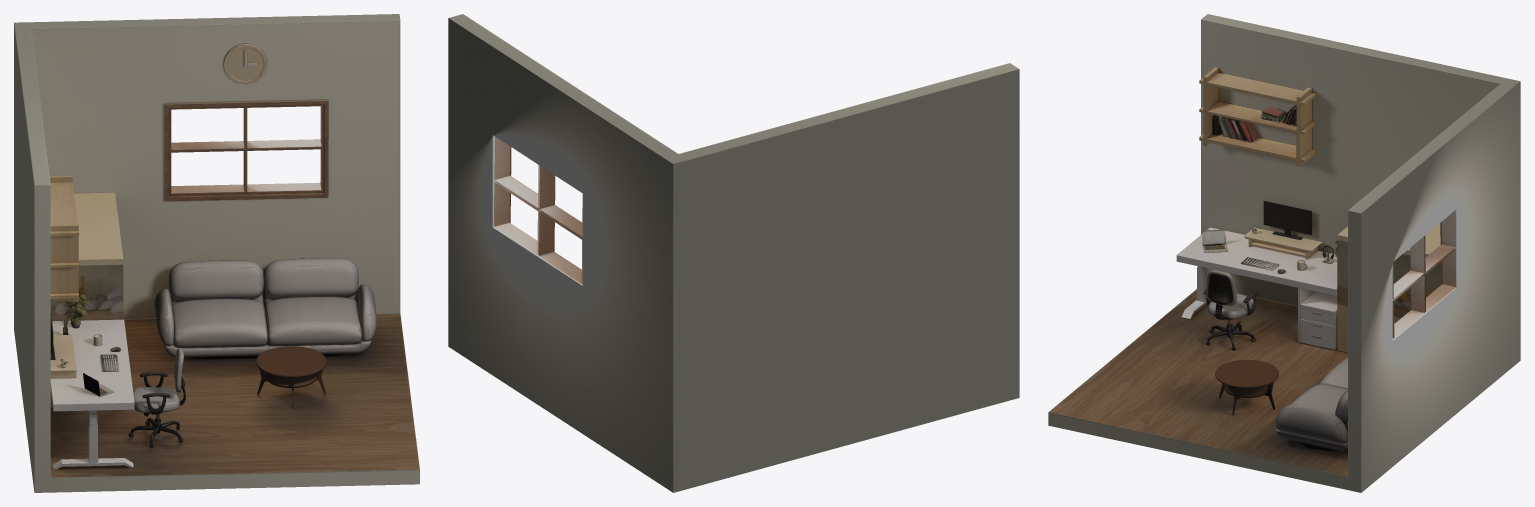
File: room.glb
3 renders of one model, left to right at view 1: azimuth 30°, elevation 25°; view 2: azimuth 150°, elevation 25°; view 3: azimuth 270°, elevation 25°, orthographic. The views are drawn at different scales.
Parts seen in each view (by area): view 1: Room, Sofa frame (High), Leaves; view 2: Room; view 3: Room, Sofa frame (High).
Boxes of the visible parts, <box> form: Room: <box>14,14,419,492</box>; Sofa frame (High): <box>154,258,376,357</box>; Leaves: <box>64,293,88,328</box>; Room: <box>448,14,1019,492</box>; Room: <box>1048,14,1520,492</box>; Sofa frame (High): <box>1275,357,1347,451</box>.
Bounding box in the file's own units: 18.46 × 12.06 × 18.46.
3 materials, 3 textured.
